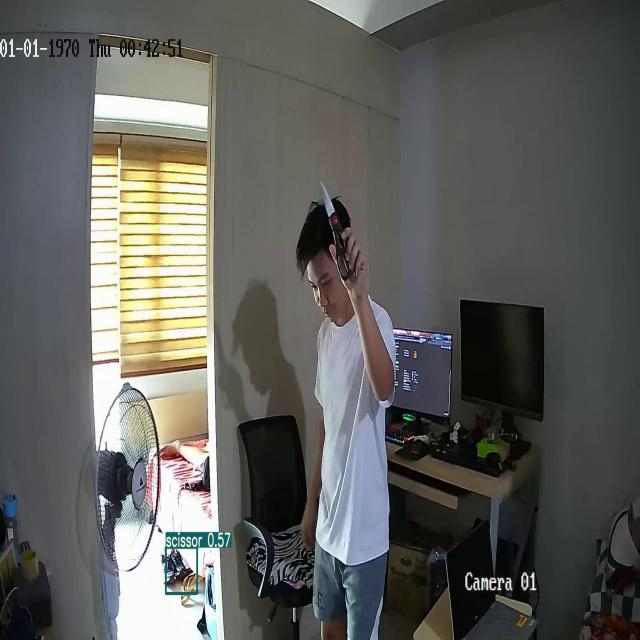scissor: (320, 181, 355, 282)
